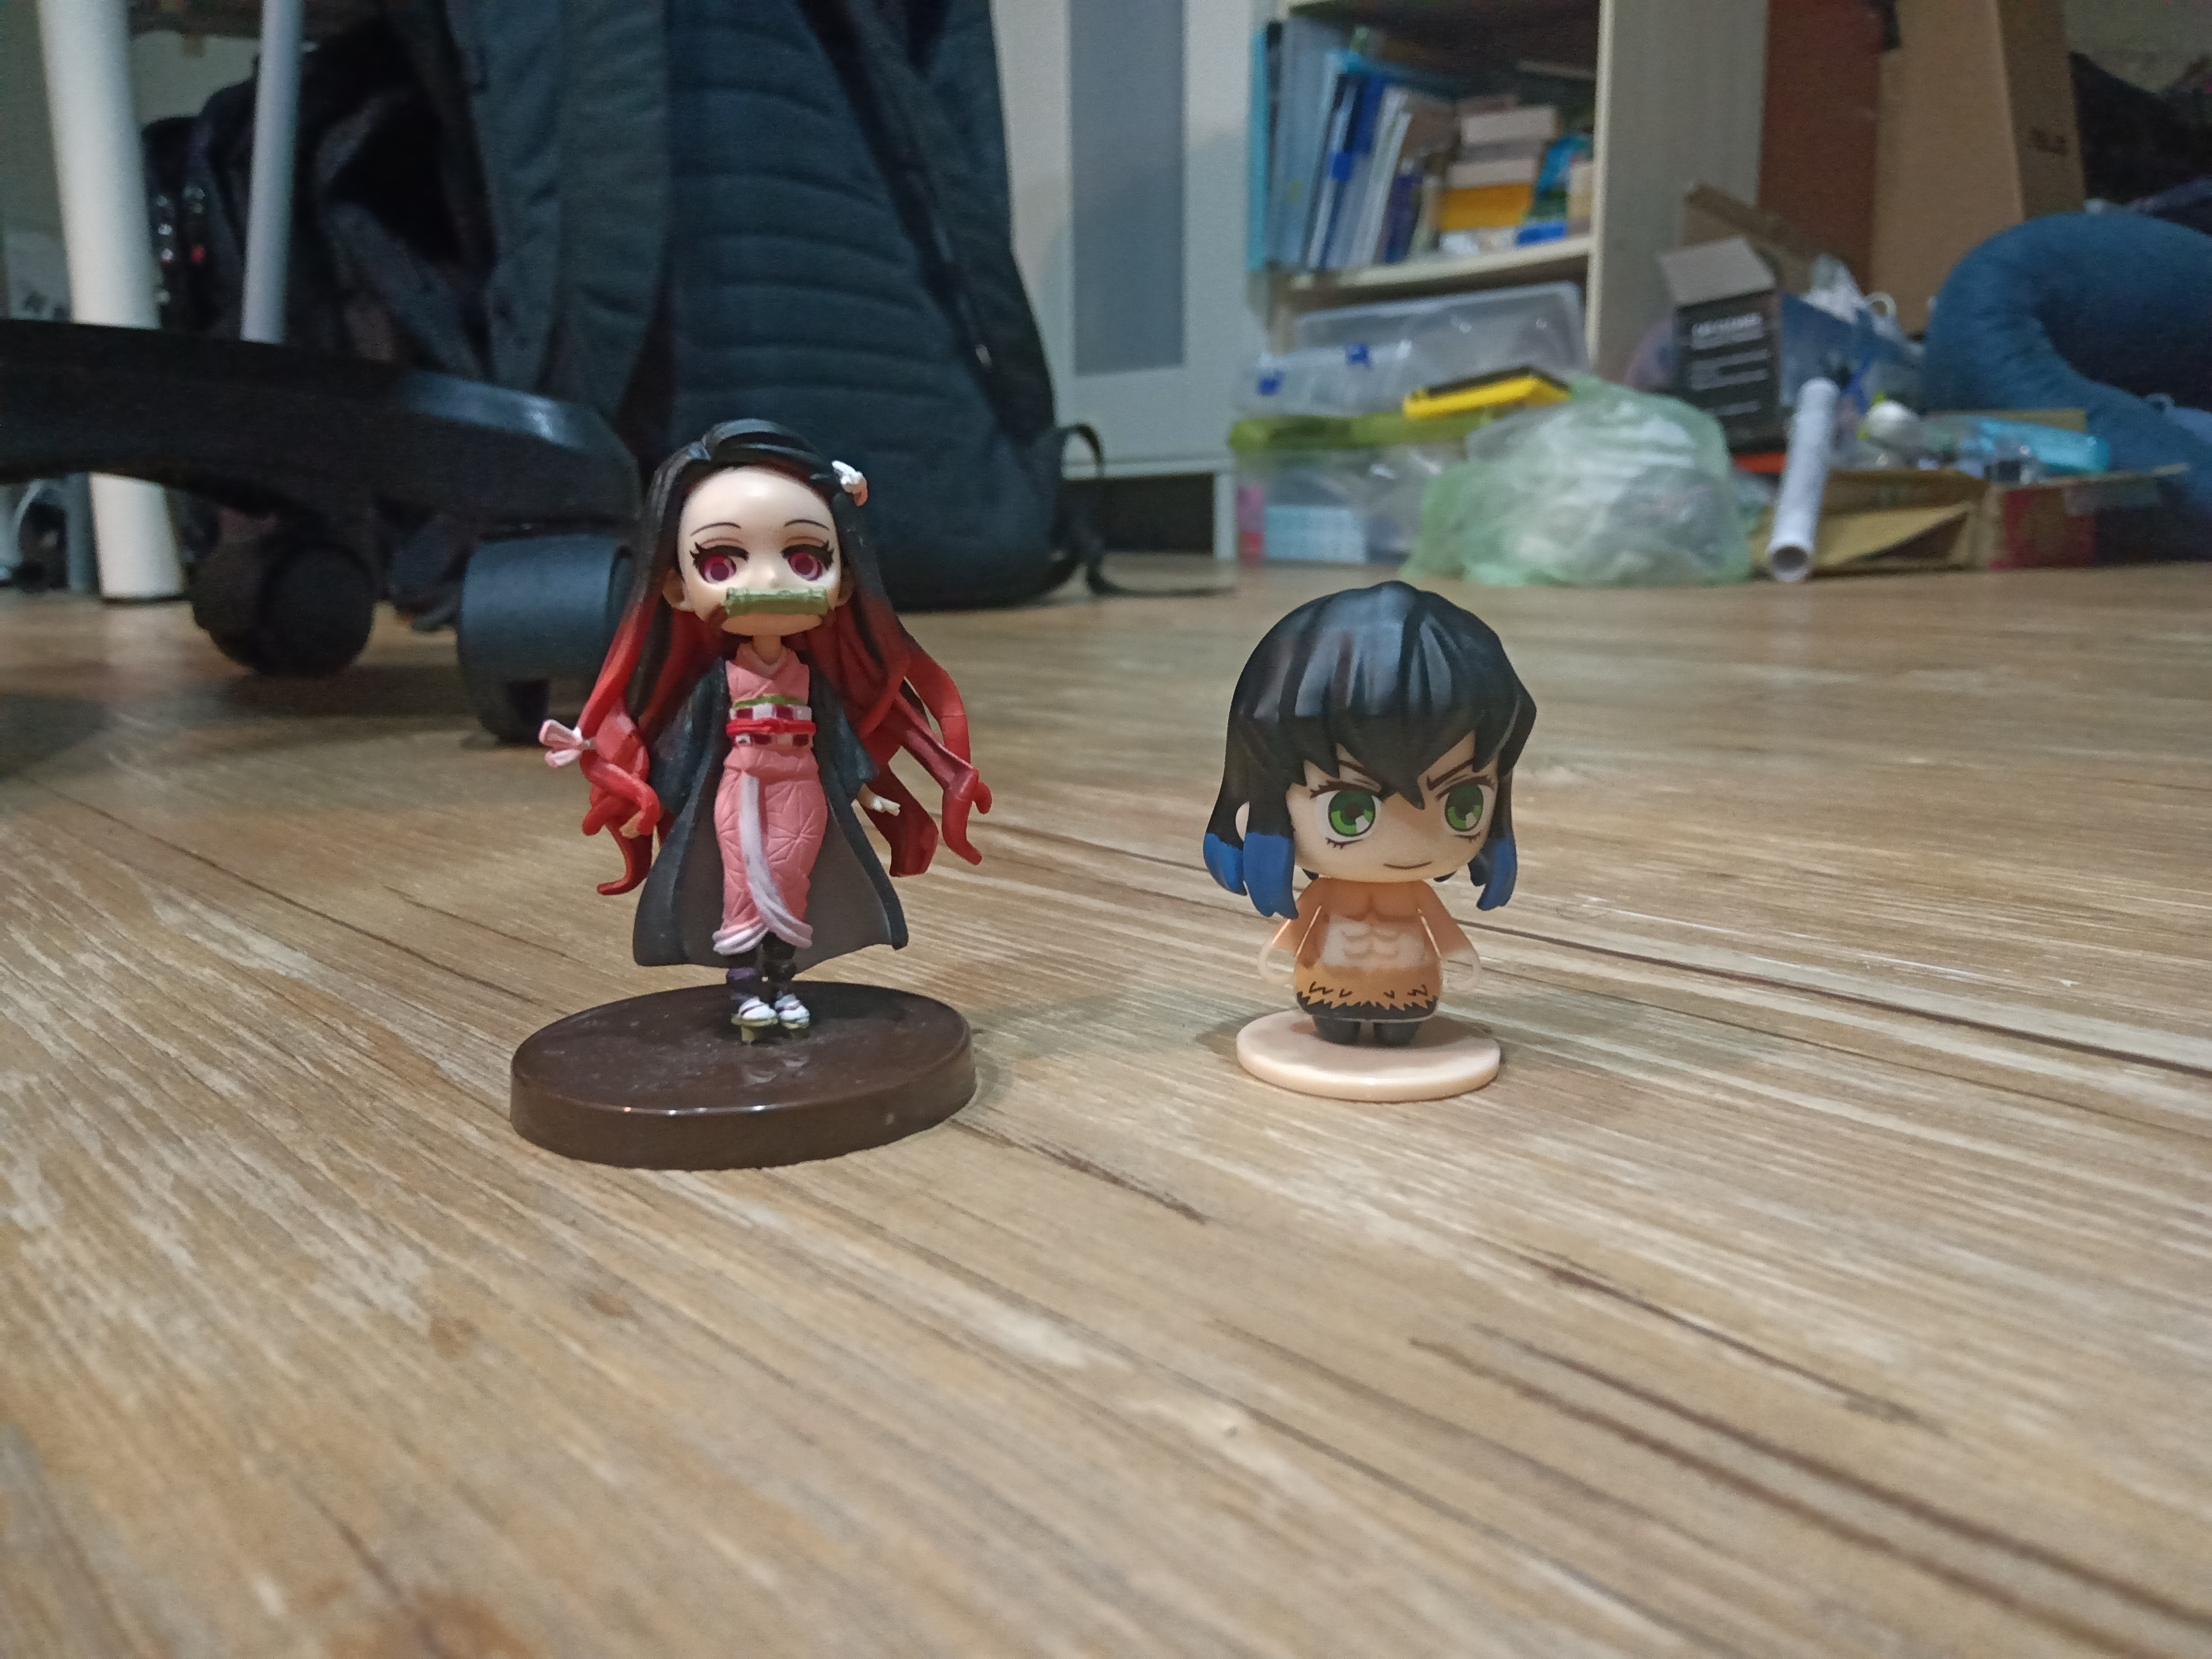Inosuke: (1167, 570, 1559, 1119)
Nezuko: (503, 406, 1003, 1185)
